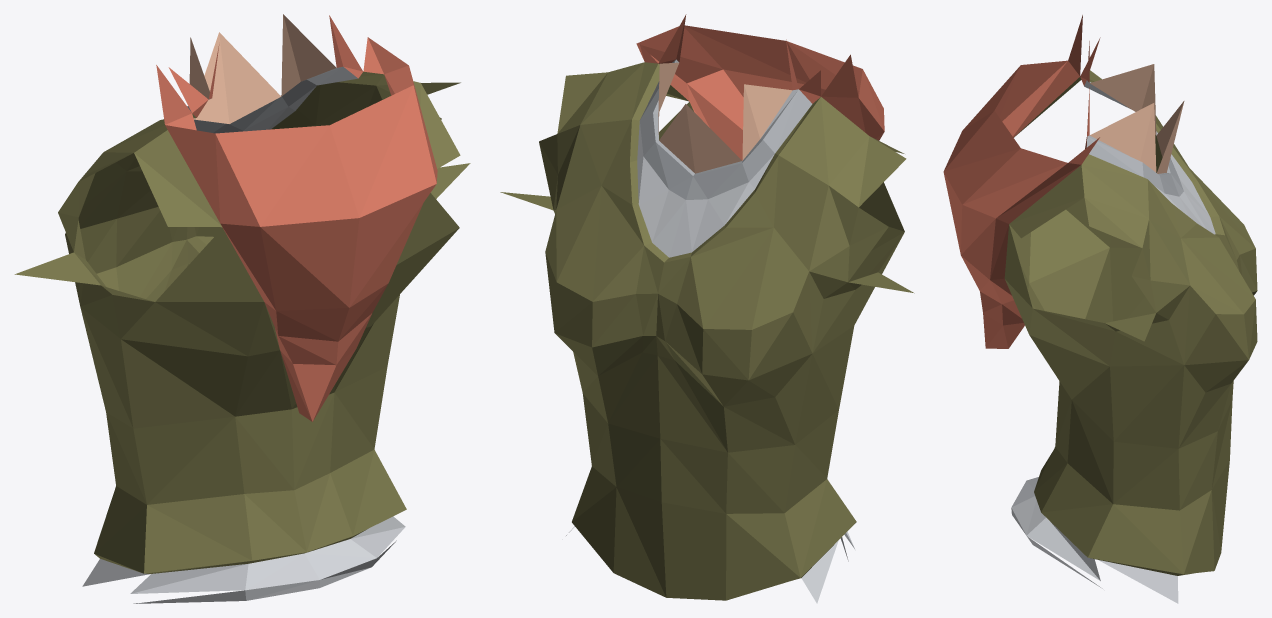
File: Daughter_01_01_A_Torso.obj
The picture shows the model from 3 angles, left to right: view 1: azimuth 30°, elevation 25°; view 2: azimuth 150°, elevation 25°; view 3: azimuth 270°, elevation 25°; orthographic projection. The views are drawn at different scales.
Visible parts, largest first — view 1: Daughter_01_01_A_Torso; view 2: Daughter_01_01_A_Torso; view 3: Daughter_01_01_A_Torso.
Part boxes in pixels (left/top/right/bottom): Daughter_01_01_A_Torso: left=14, top=14, right=470, bottom=603; Daughter_01_01_A_Torso: left=500, top=14, right=914, bottom=603; Daughter_01_01_A_Torso: left=943, top=15, right=1257, bottom=603.
Bounding box in the file's own units: 0.5319 × 0.6365 × 0.3688.
Materials: 1 (1 with a texture image).
